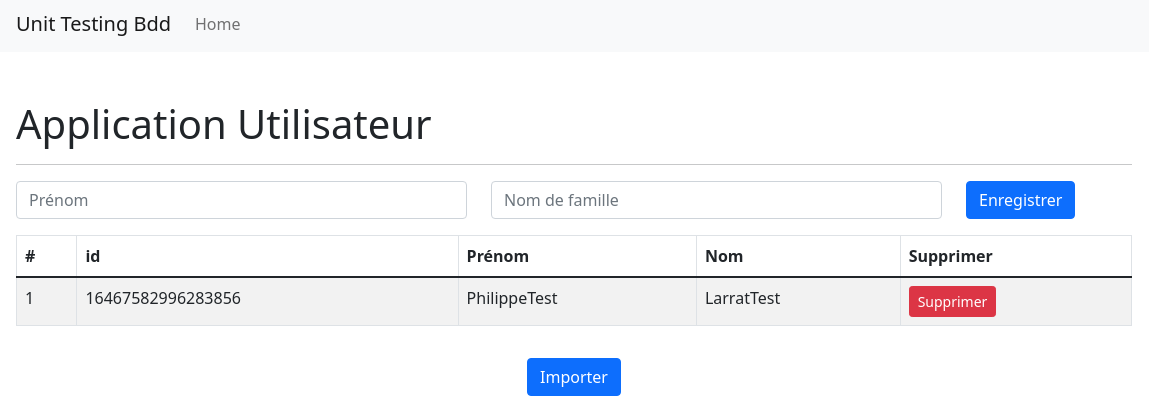
Scenario: Test de la suppression › should delete last user
The width and height of the screenshot is (1149, 413).
Click the button "Supprimer".
click(953, 302)  # box top-left (909, 286), bottom-right (996, 317)
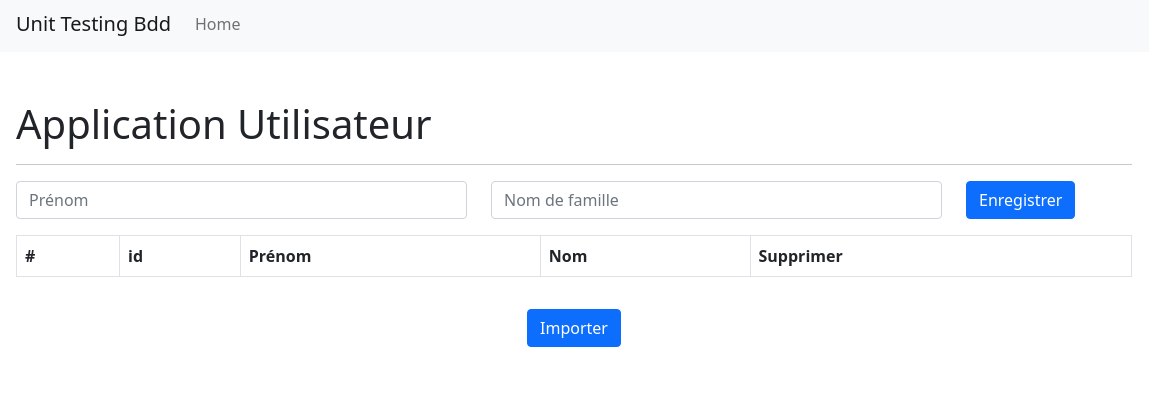
expect the text "PhilippeTest" is gone: met
expect the text "LarratTest" is gone: met
